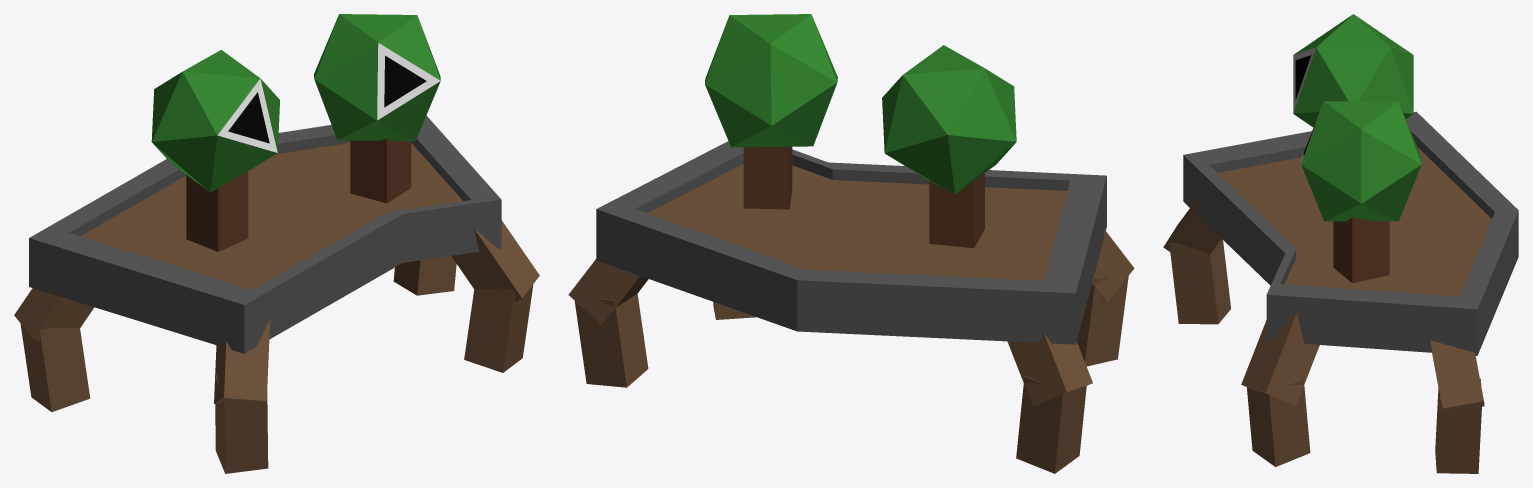
Rendered from Bonzie.fbx.
3 views of the same model, side by side, from view 1: azimuth 30°, elevation 25°; view 2: azimuth 150°, elevation 25°; view 3: azimuth 270°, elevation 25° (orthographic). The views are drawn at different scales.
Parts seen in each view (by area): view 1: Cube.001, Cube.005, Cube.003, Cube.004, Cube.006; view 2: Cube.001, Cube.003, Cube.006, Cube.004; view 3: Cube.001, Cube.005, Cube.006, Cube.004.
Part boxes in pixels (bbox=[...]): Cube.001: bbox=[29, 14, 501, 353]; Cube.005: bbox=[451, 220, 539, 372]; Cube.003: bbox=[14, 288, 93, 411]; Cube.004: bbox=[214, 319, 270, 473]; Cube.006: bbox=[393, 256, 456, 295]; Cube.001: bbox=[596, 14, 1106, 344]; Cube.003: bbox=[1007, 333, 1092, 473]; Cube.006: bbox=[568, 259, 648, 387]; Cube.004: bbox=[1076, 229, 1134, 366]; Cube.001: bbox=[1183, 14, 1518, 355]; Cube.005: bbox=[1241, 313, 1319, 466]; Cube.006: bbox=[1430, 340, 1484, 473]; Cube.004: bbox=[1163, 198, 1230, 324].
Bounding box in the file's own units: 696 × 479 × 491.
